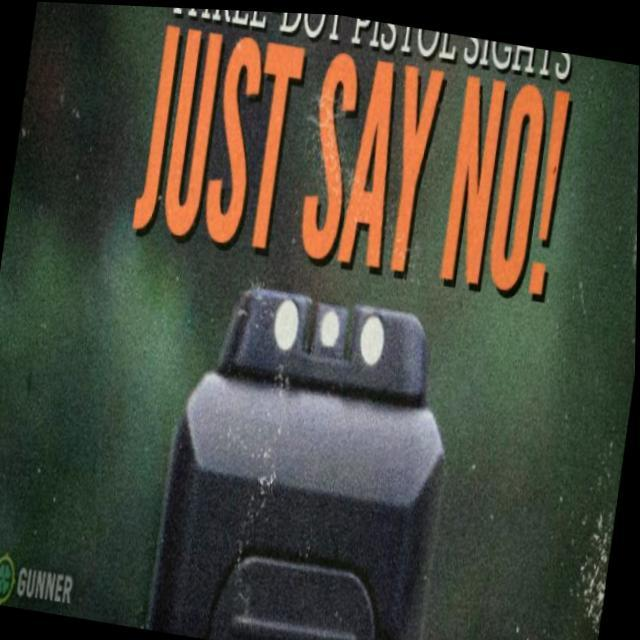weapon: (146, 268, 467, 640)
